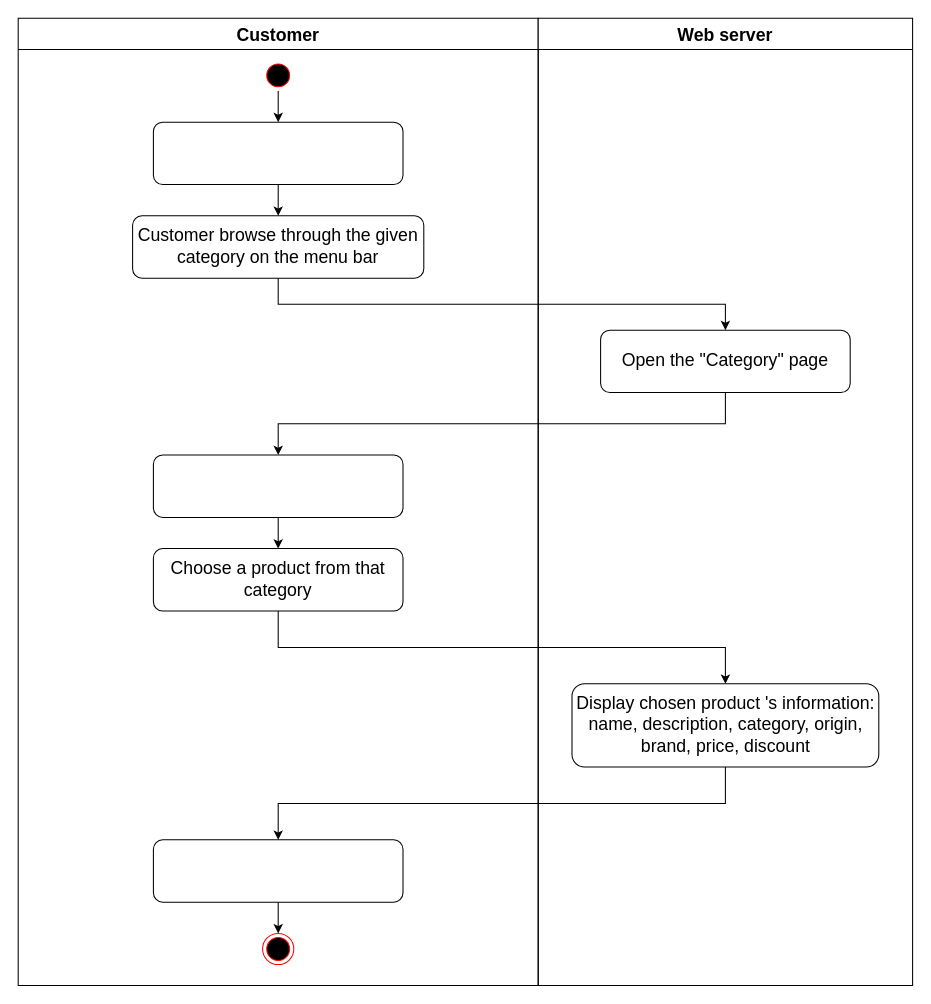
Image size: 931x1004. Some labels were removed from this diagram. Each missing label, with the centre of its shape:
"Back to main site" belongs at point (277, 870).
"Choose a category" belongs at point (277, 485).
"Customer open the website" belongs at point (277, 153).
